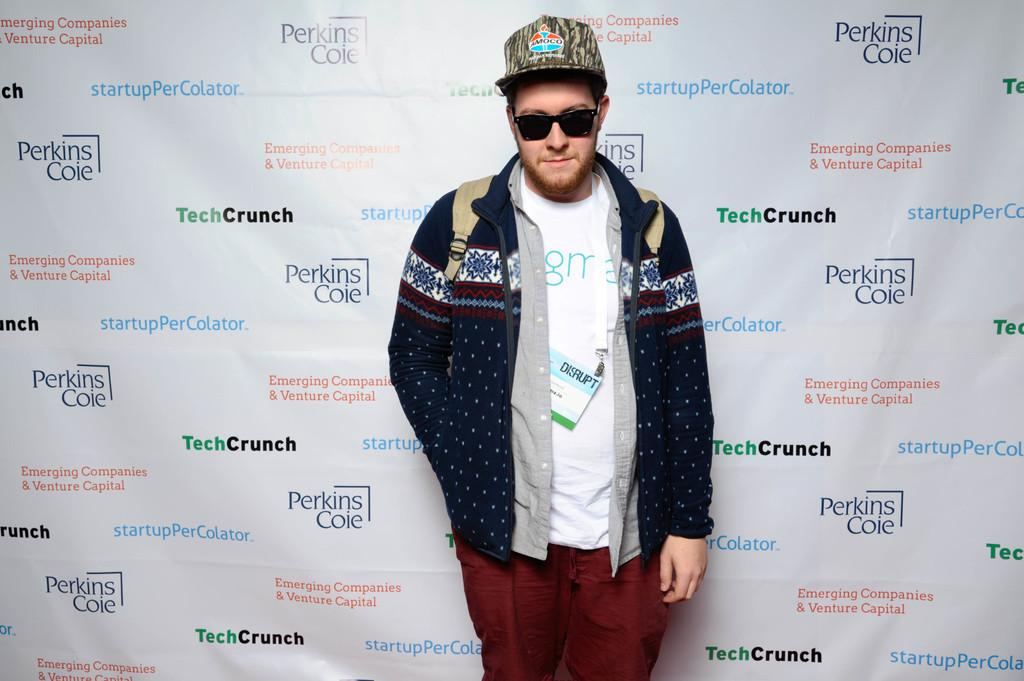Hat: (498, 13, 607, 92)
